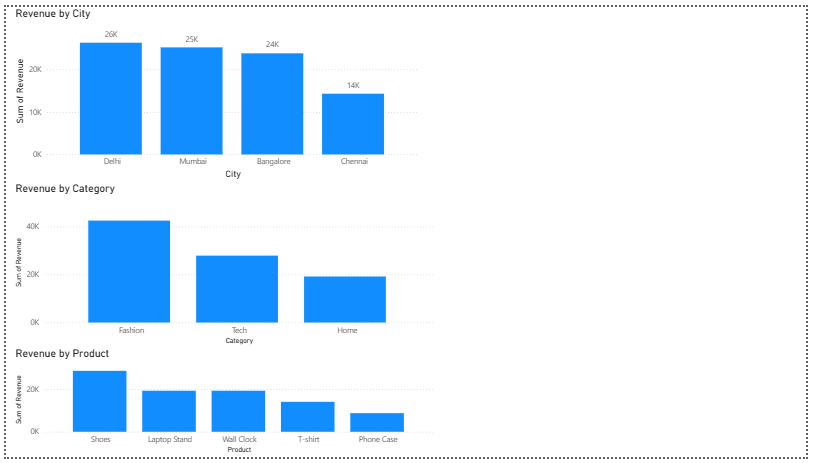

The page's visual inventory and layout, read from the dashboard file:
{"tool":"powerbi","page":{"name":"Page 1","canvas":[1280,720],"ordinal":0},"visuals":[{"type":"clusteredColumnChart","title":"Revenue  by City","fields":{"Category":["Sheet1.City"],"Y":["Sum(Sheet1.Revenue )"]},"box":[9.6,0,655.9,279.9],"z":0},{"type":"clusteredColumnChart","title":"Revenue  by Category","fields":{"Category":["Sheet1.Category"],"Y":["Sum(Sheet1.Revenue )"]},"box":[9.6,279.9,679.2,264.8],"z":1},{"type":"clusteredColumnChart","title":" Revenue  by Product","fields":{"Category":["Sheet1.Product"],"Y":["Sum(Sheet1.Revenue )"]},"box":[9.6,544.8,679.2,175.6],"z":2}]}

Visuals, with their boxes in screenshot pixels (x1, y1, x2, y2), scaled from the page's 1280x720 canvas onto the 813x463 screenshot:
"Revenue  by City" clusteredColumnChart: Rect(6, 0, 423, 180)
"Revenue  by Category" clusteredColumnChart: Rect(6, 180, 437, 350)
" Revenue  by Product" clusteredColumnChart: Rect(6, 350, 437, 462)
